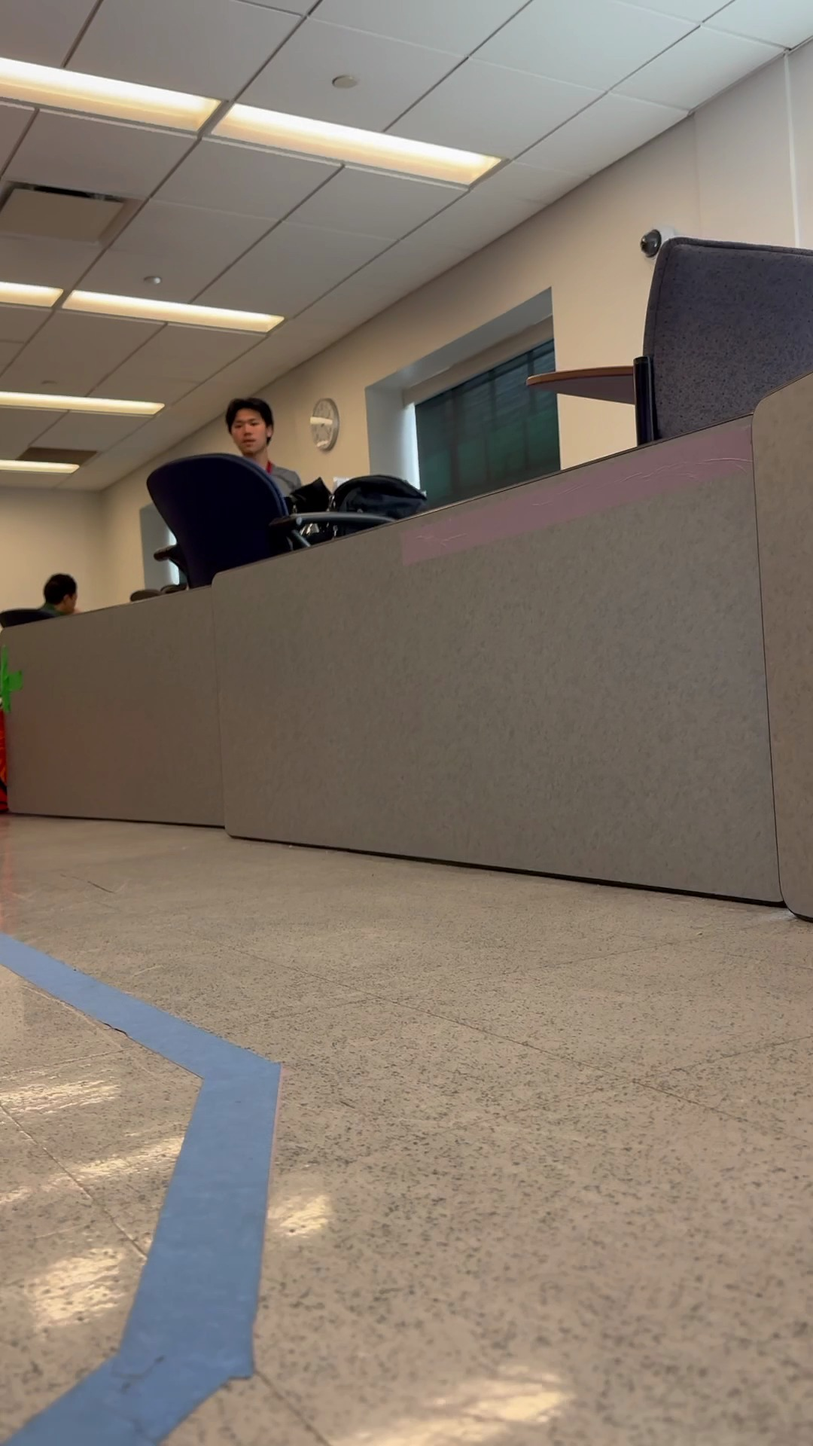racecar: (142, 450, 431, 596)
